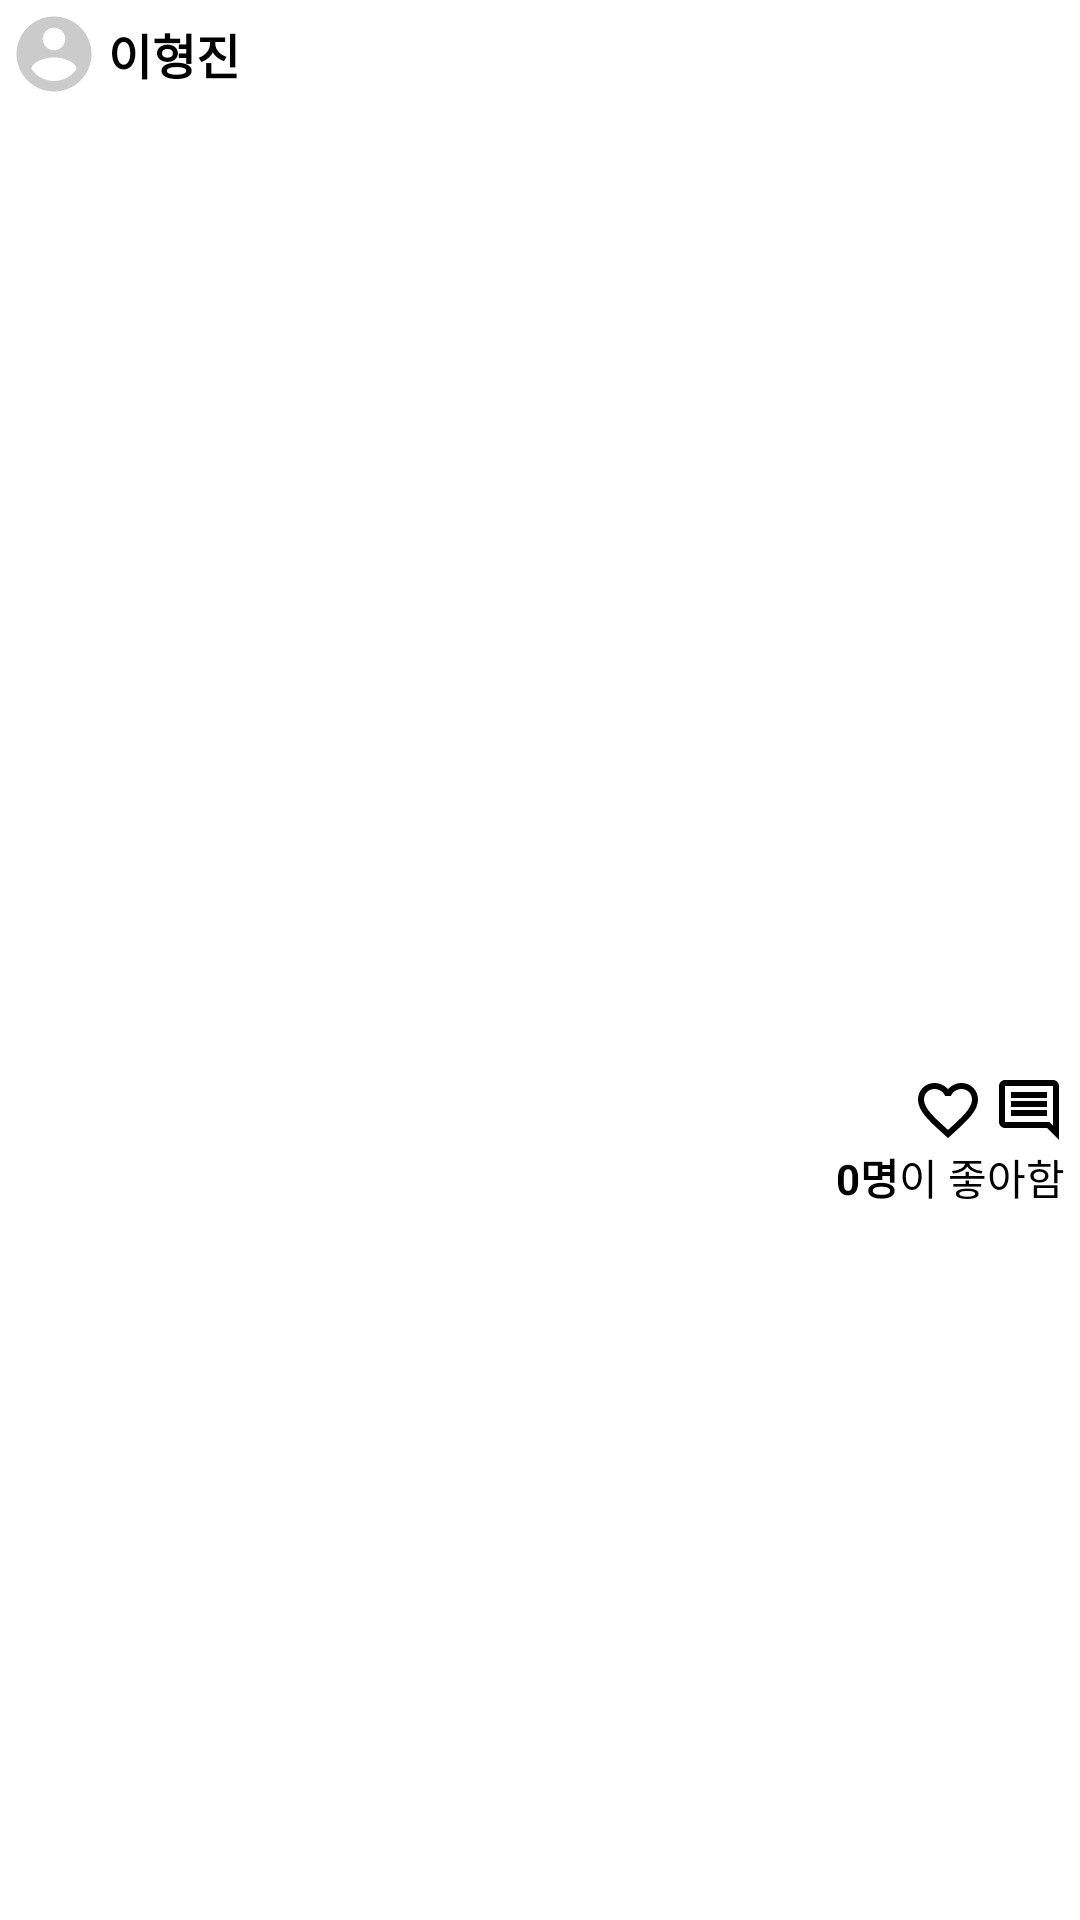

Named icons in this screenshot (1080px×1920px) and their bounding boxes, [x1, y1, x2, y2]:
account circle: [16, 16, 92, 92]
comment: [999, 1080, 1059, 1140]
